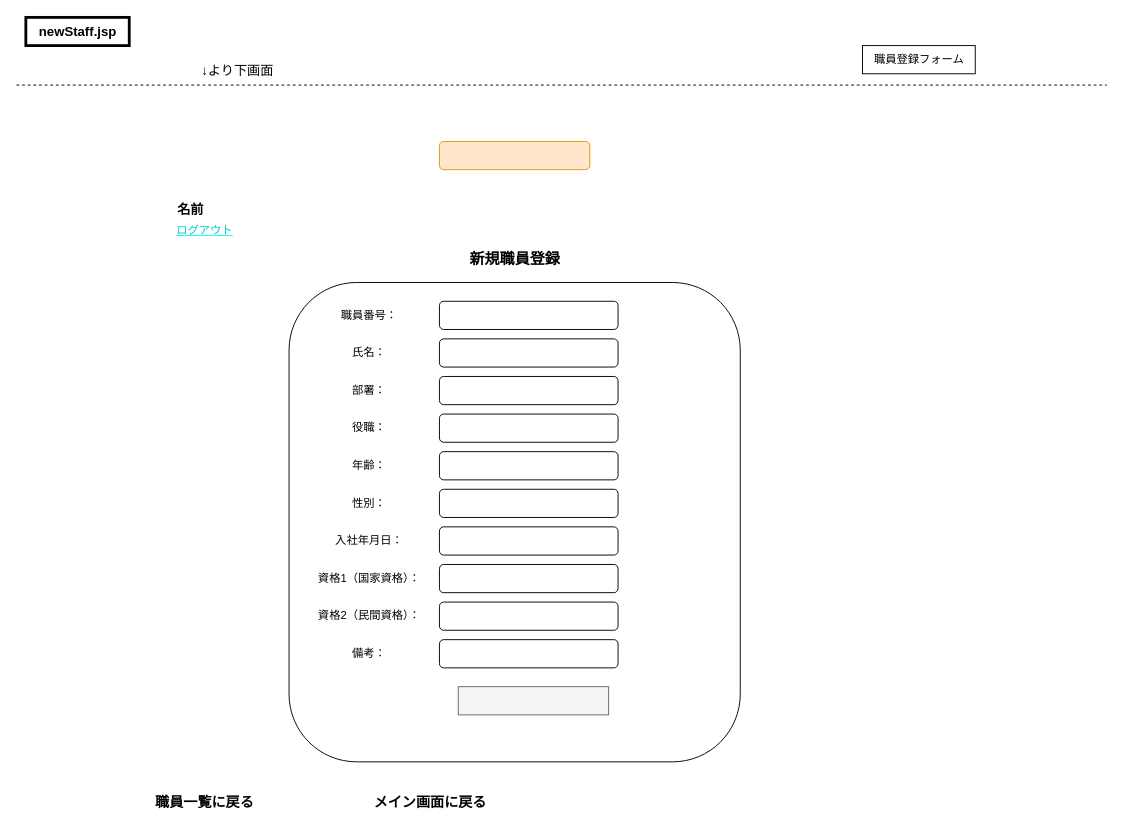
Some shapes in this 1124 by 832 pixel diagram are drawn without their labels. Each missing label, with the centre of its shape:
"人事評価システム（仮）" belongs at (514,155).
"新規職員登録（ボタン）" belongs at (533,700).
